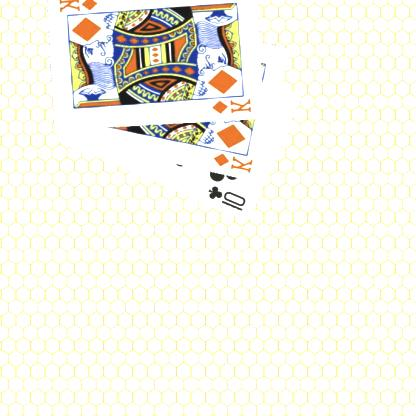10C: (207, 183, 249, 213)
KD: (212, 150, 257, 175), (211, 96, 255, 115), (58, 0, 101, 14)
